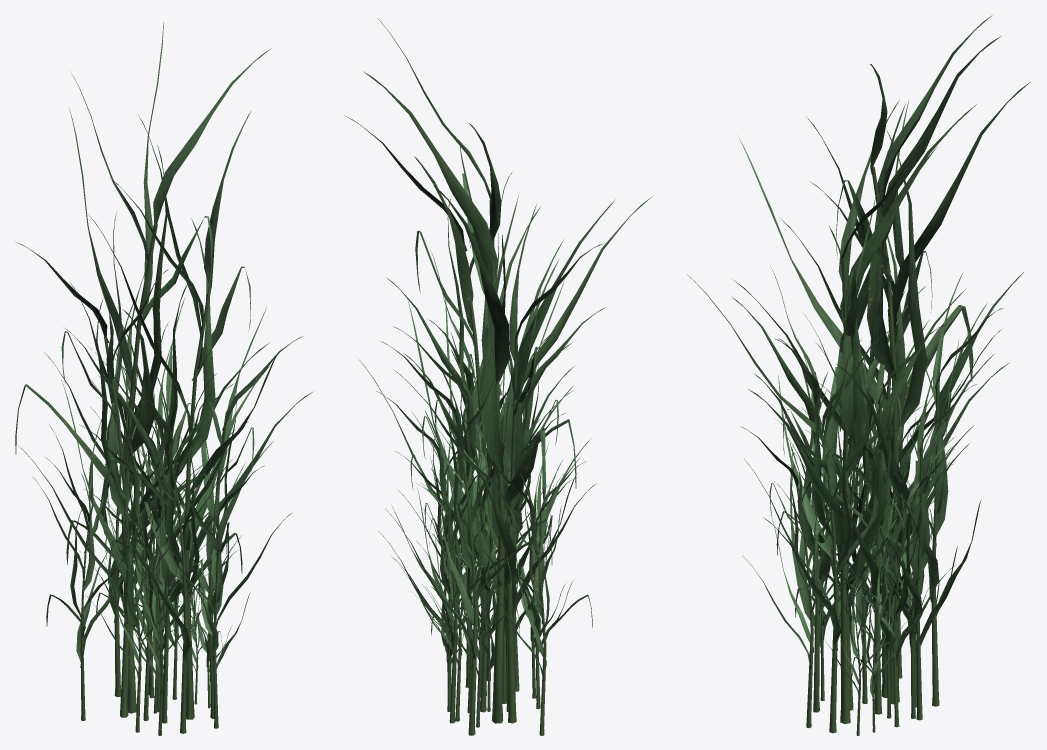
Rendered from Grass.glb.
3 views of the same model, side by side, from view 1: azimuth 30°, elevation 25°; view 2: azimuth 150°, elevation 25°; view 3: azimuth 270°, elevation 25° (orthographic). The views are drawn at different scales.
Parts seen in each view (by area): view 1: foli_komish, trunks_komish; view 2: foli_komish, trunks_komish; view 3: foli_komish, trunks_komish.
Part boxes in pixels (x1,y1,x2,y2): foli_komish: (15,22,312,692); trunks_komish: (80,224,225,735); foli_komish: (344,18,652,680); trunks_komish: (439,200,546,735); foli_komish: (687,15,1030,700); trunks_komish: (796,166,939,735).
Bounding box in the file's own units: 959 × 2364 × 1053.
Materials: 2 (2 with a texture image).
